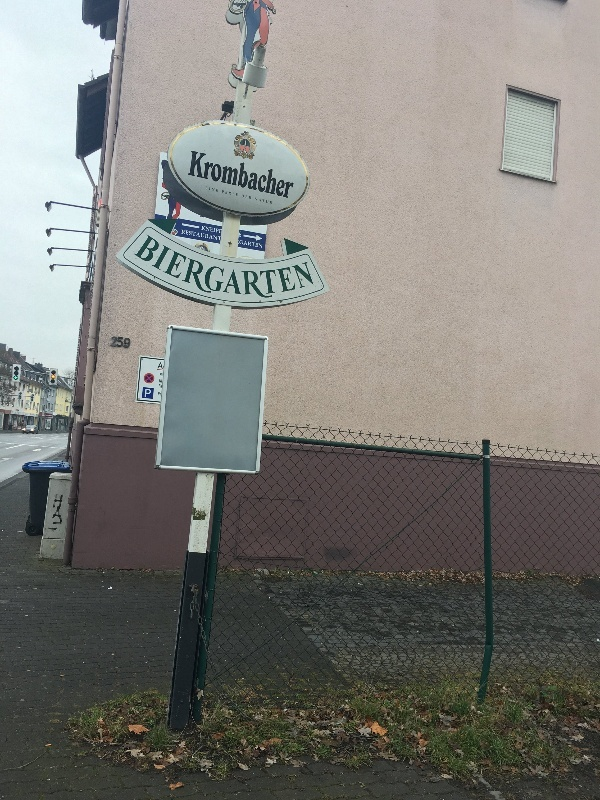text: (161, 232, 176, 316), (177, 232, 192, 316), (193, 232, 208, 316), (209, 232, 224, 316), (225, 232, 240, 316), (241, 232, 256, 316), (257, 232, 272, 316), (273, 232, 288, 316), (289, 232, 304, 316), (305, 232, 320, 316), (148, 232, 160, 316), (193, 148, 208, 201), (209, 148, 224, 201), (225, 148, 240, 201), (241, 148, 256, 201), (257, 148, 272, 201), (273, 148, 288, 201), (321, 232, 326, 316), (289, 148, 296, 201), (56, 492, 64, 531), (113, 335, 128, 349), (193, 229, 208, 242), (1, 415, 16, 428), (209, 229, 222, 242), (241, 239, 256, 249), (145, 388, 160, 398), (257, 196, 273, 205), (182, 229, 192, 242), (225, 189, 239, 198), (209, 225, 222, 234), (17, 411, 32, 417), (242, 194, 256, 200), (209, 186, 219, 193), (257, 239, 263, 249), (202, 225, 208, 234), (191, 148, 192, 201), (129, 335, 131, 349), (222, 189, 224, 198), (13, 411, 16, 417), (161, 362, 163, 370), (206, 186, 208, 193), (33, 411, 35, 417), (158, 391, 160, 396), (255, 196, 256, 205), (49, 414, 52, 417), (161, 373, 163, 377), (161, 379, 163, 383), (46, 414, 48, 417), (239, 232, 240, 237), (241, 232, 242, 237), (159, 384, 160, 389), (161, 384, 162, 389), (161, 391, 162, 396), (159, 379, 160, 383)
